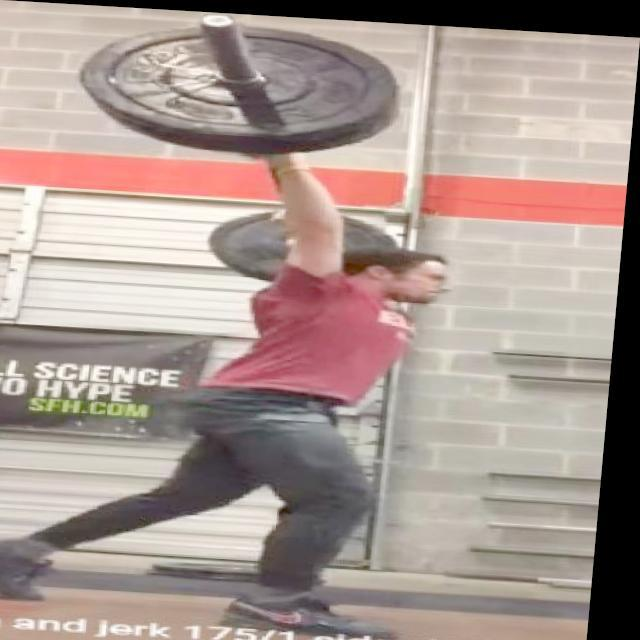barbell: (75, 6, 406, 149)
